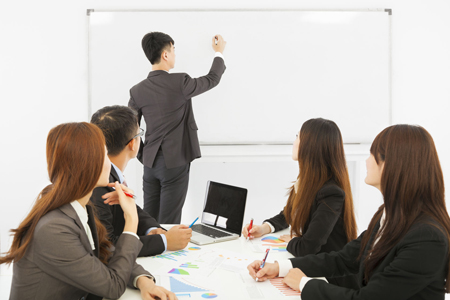Person: (247, 107, 450, 300), (1, 121, 181, 300), (128, 32, 227, 224), (241, 117, 359, 256), (90, 104, 193, 257)
